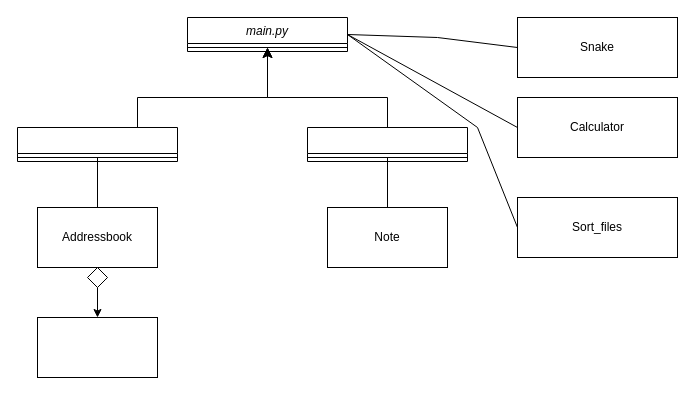
Some shapes in this 695 by 395 pixel diagram are drawn without their labels. The shapes that lost their labels are listed below. From the top down, each one's centre as x and y in pixels, then its label:
At [97,144]: "Address_Book_Handler".
At [387,144]: "Note_Book_Handler".
At [97,347]: "Address_book_data".
